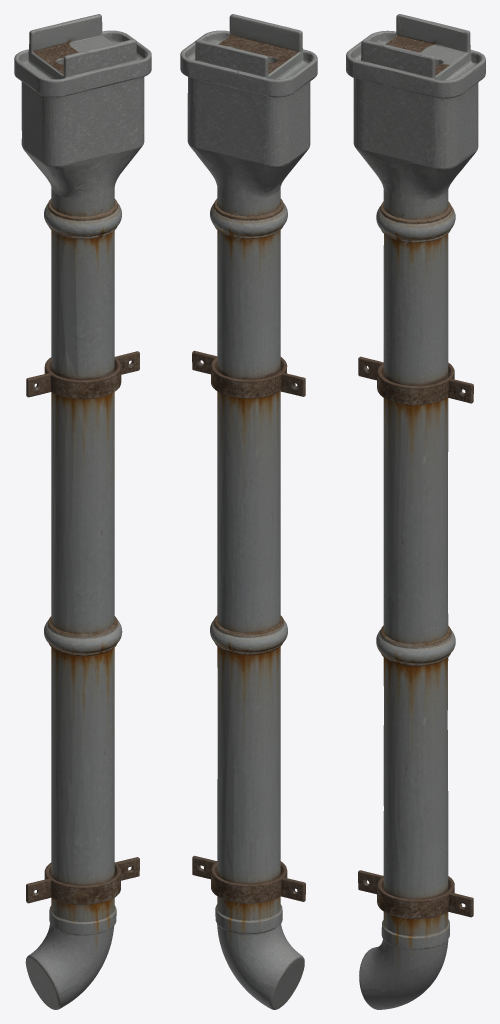
Rendered from familok_downpipe.glb.
3 renders of one model, left to right at view 1: azimuth 30°, elevation 25°; view 2: azimuth 150°, elevation 25°; view 3: azimuth 330°, elevation 25°, orthographic.
Size of the model in its own units: 0.2325 by 1.9 by 0.1473.
Materials: 1 (1 with a texture image).
